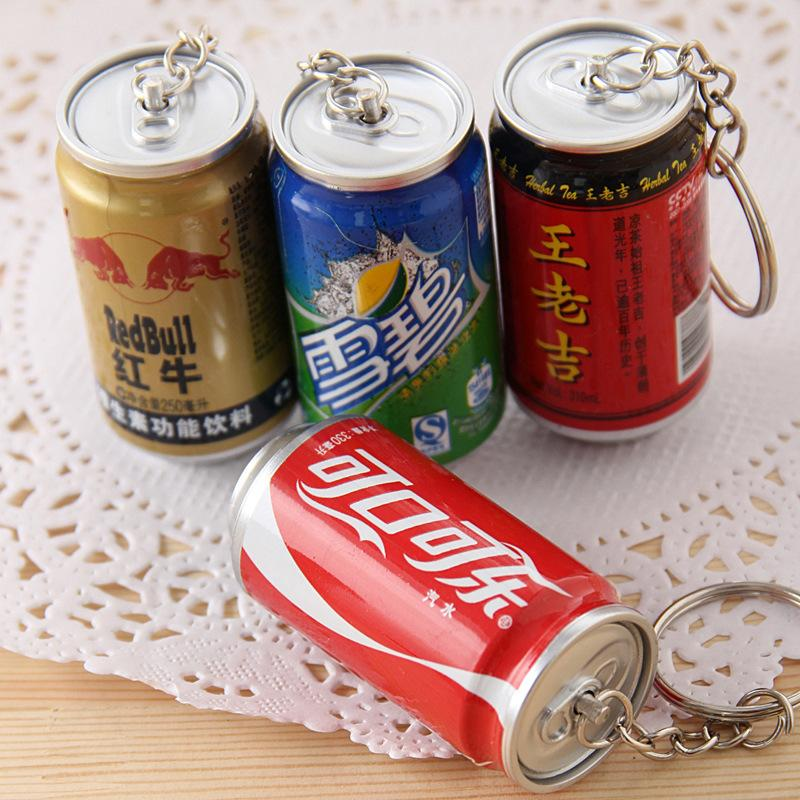metal: (233, 417, 655, 785), (56, 32, 294, 455), (272, 50, 503, 460), (490, 20, 711, 441), (365, 226, 504, 461), (711, 154, 777, 316)
